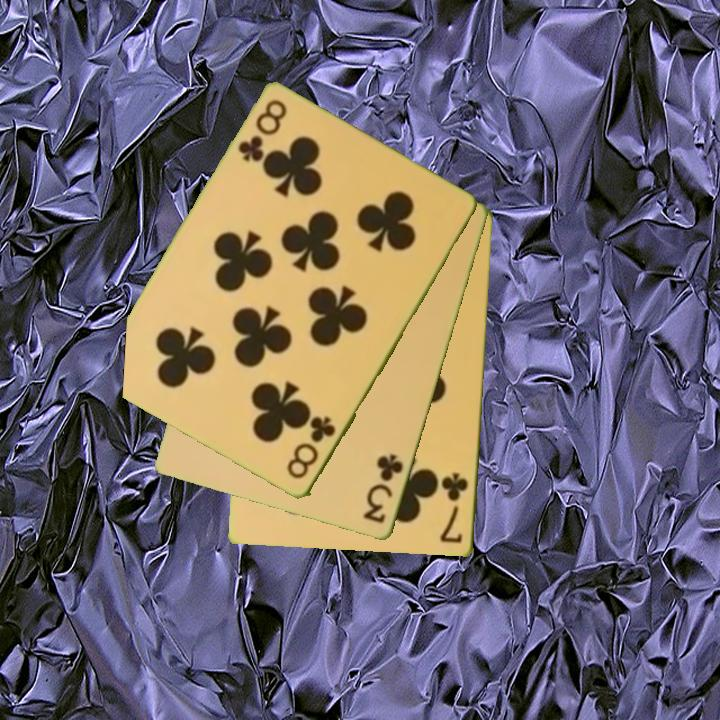3c: (360, 451, 407, 527)
7c: (437, 469, 471, 547)
8c: (234, 96, 291, 166), (283, 413, 339, 483)
